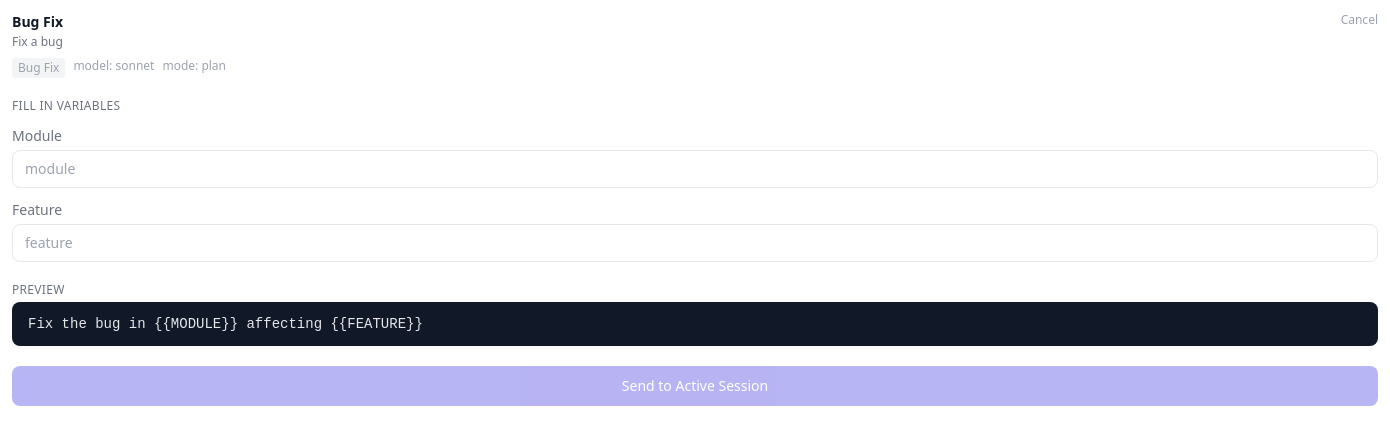
it: TemplateForm › enables Send when all variables are filled
This screenshot has width=1390, height=423.
Type "auth" into the field with placeholder "module" at (695, 169), box [12,150,1378,188]
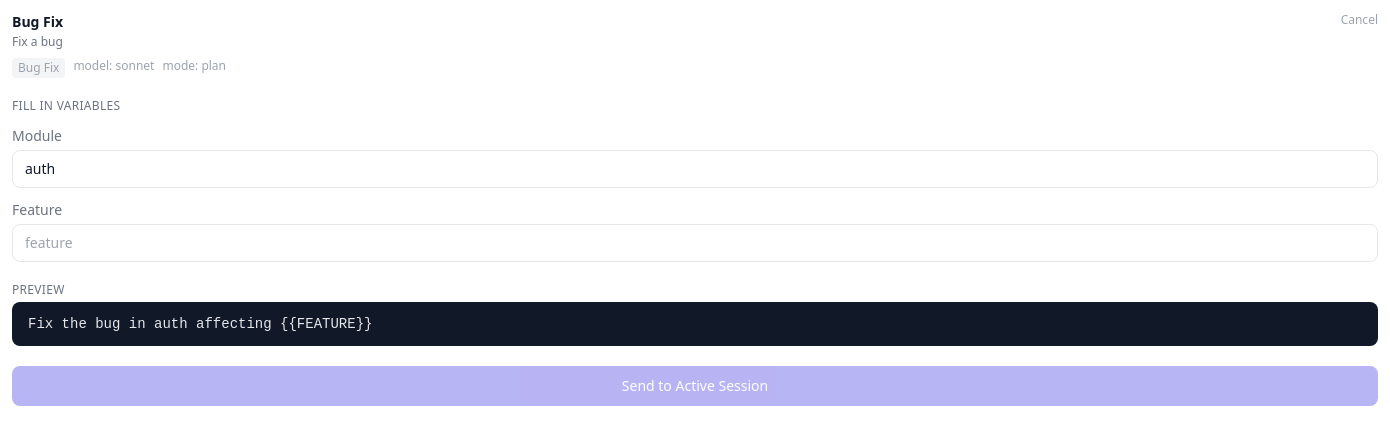
Type "login" into the field with placeholder "feature" at (695, 243), box [12,224,1378,262]
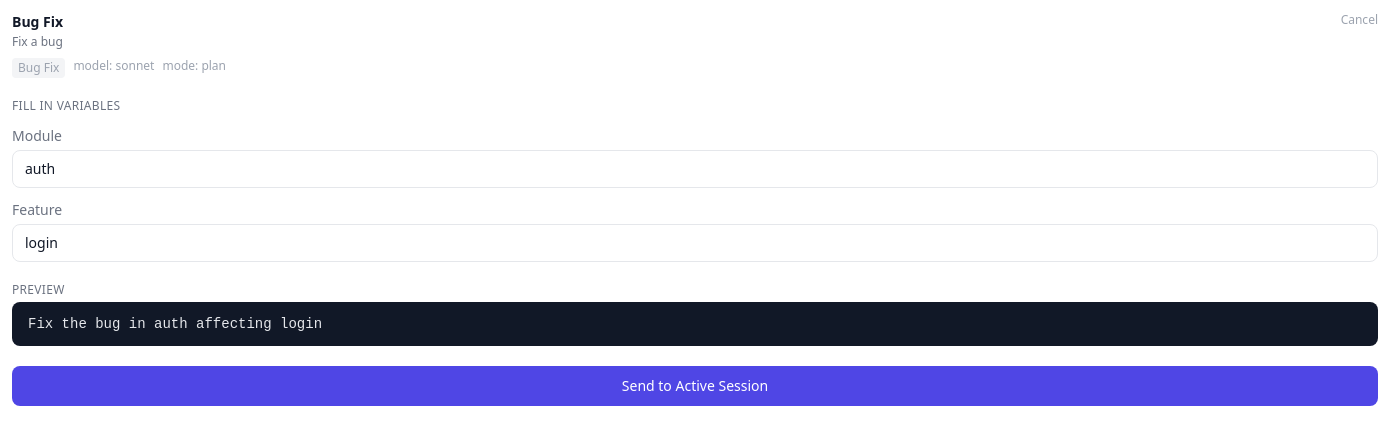
Expected: the button "Send to Active Session" is enabled, [12,366,1378,406]
